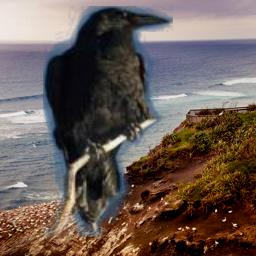Crow: (43, 6, 173, 237)
